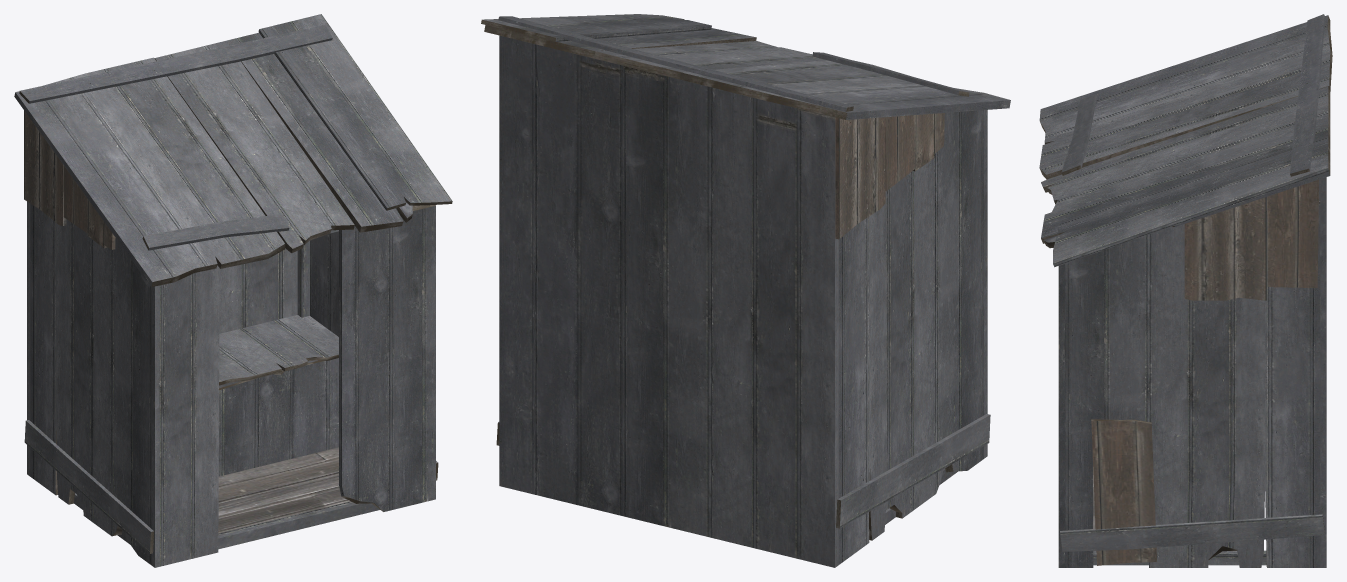
Rendered from Building_LinjgdJz005.glb.
3 renders of one model, left to right at view 1: azimuth 30°, elevation 25°; view 2: azimuth 150°, elevation 25°; view 3: azimuth 270°, elevation 25°, orthographic. The views are drawn at different scales.
Visible parts, largest first — view 1: bmsl_linjgd_jz005; view 2: bmsl_linjgd_jz005; view 3: bmsl_linjgd_jz005.
Part boxes in pixels (<box>): bmsl_linjgd_jz005: <box>14,14,452,567</box>; bmsl_linjgd_jz005: <box>481,14,1010,567</box>; bmsl_linjgd_jz005: <box>1039,14,1332,567</box>.
Bounding box in the file's own units: 3.12 × 3.78 × 2.47.
1 material, 1 textured.
